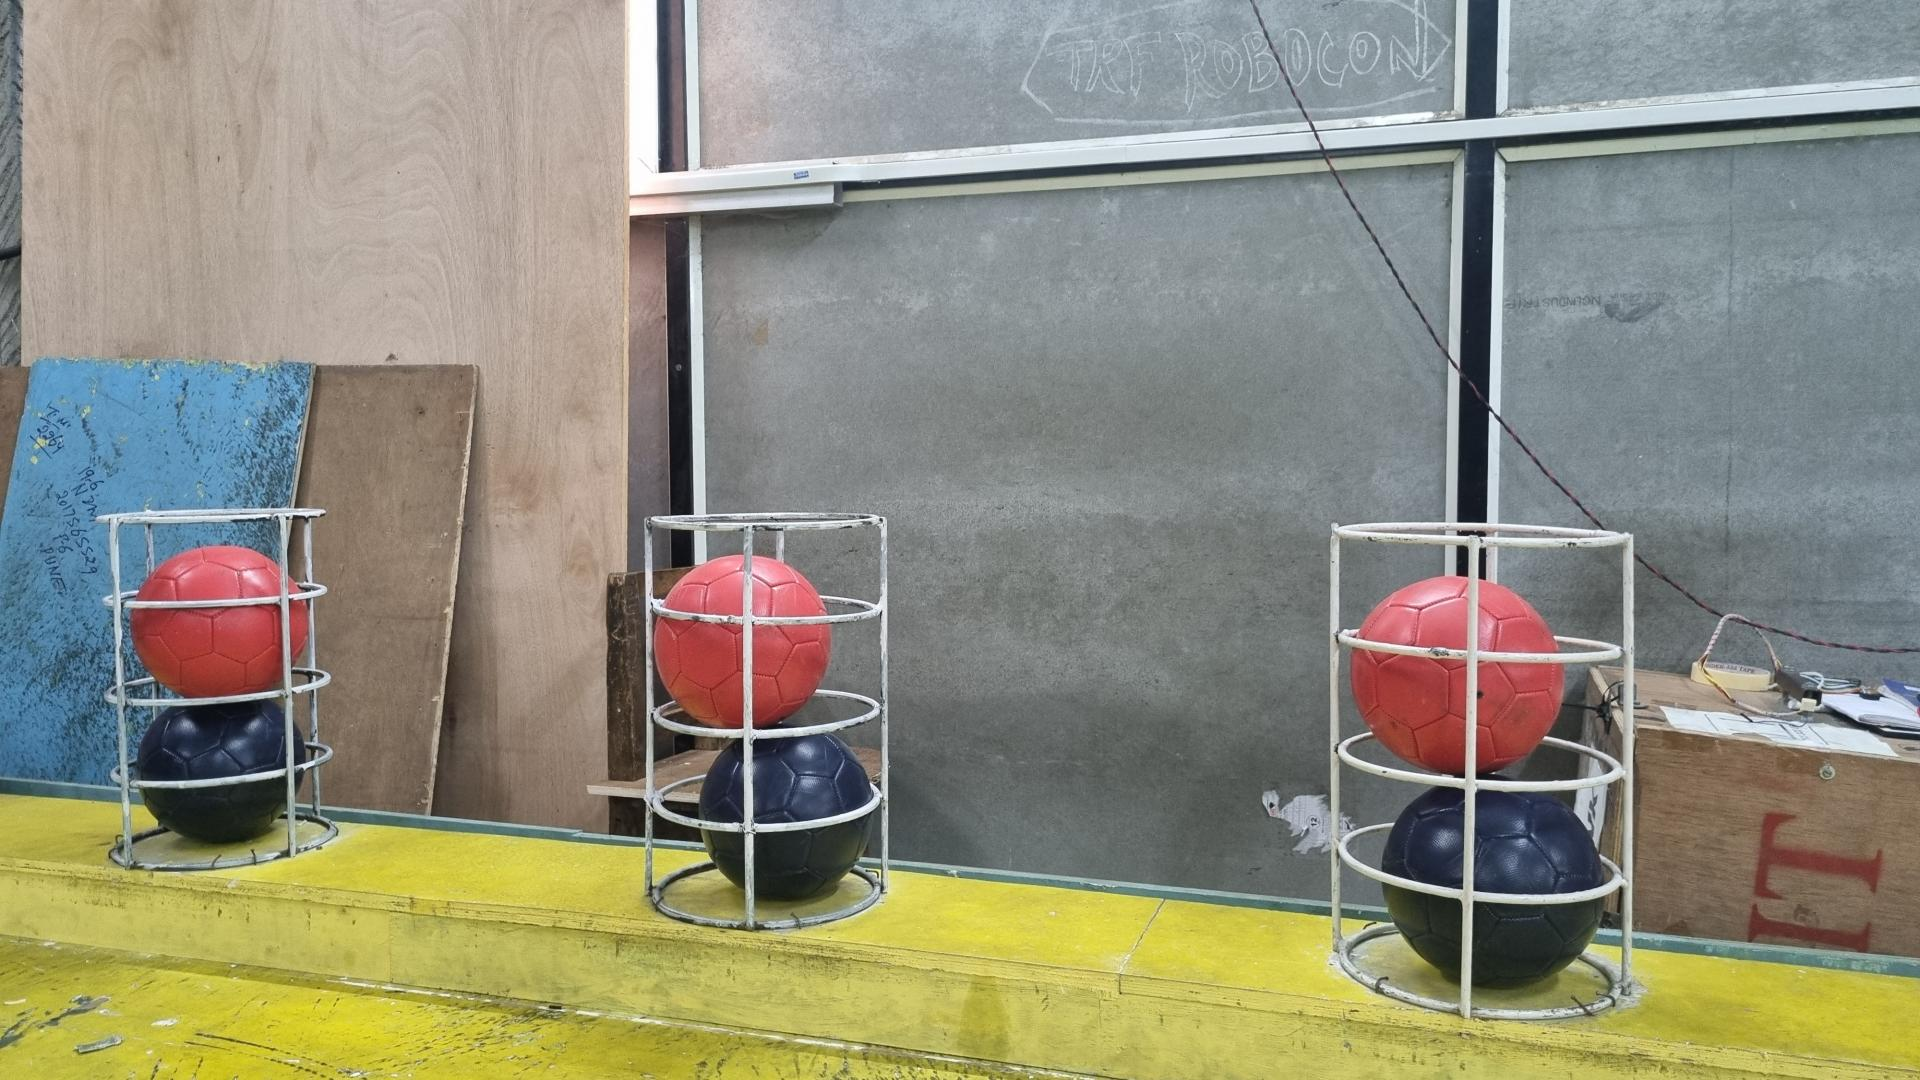dhoka: (1379, 787, 1609, 989), (698, 735, 877, 903), (135, 700, 307, 843)
laale: (1350, 578, 1564, 779), (653, 555, 832, 731), (128, 543, 311, 696)
